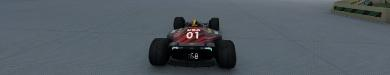Car: (148, 16, 236, 68)
Solid White and black: (333, 5, 382, 17)
obstacles-Borders: (331, 0, 389, 25)
